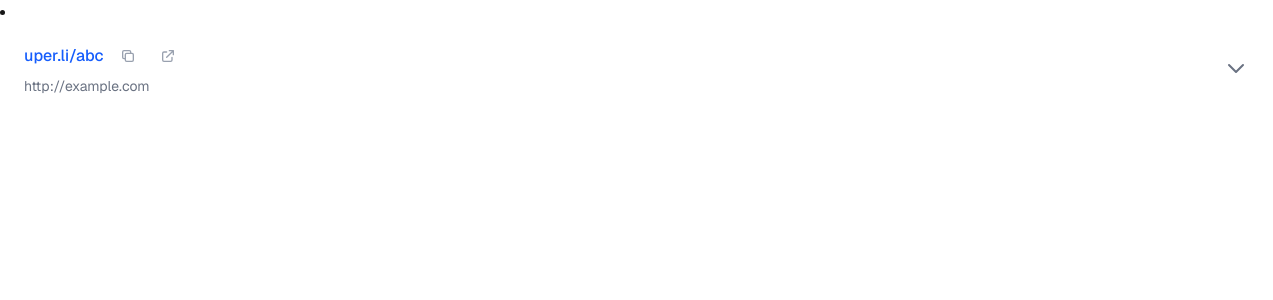
Test case: LinkItem › toggles expansion on click of the expand button
What coordinates should you click on to do the following:
click the button named "Expand details"
I would click on:
 (1236, 68)
Its box is x1=1216 y1=48 x2=1256 y2=88.
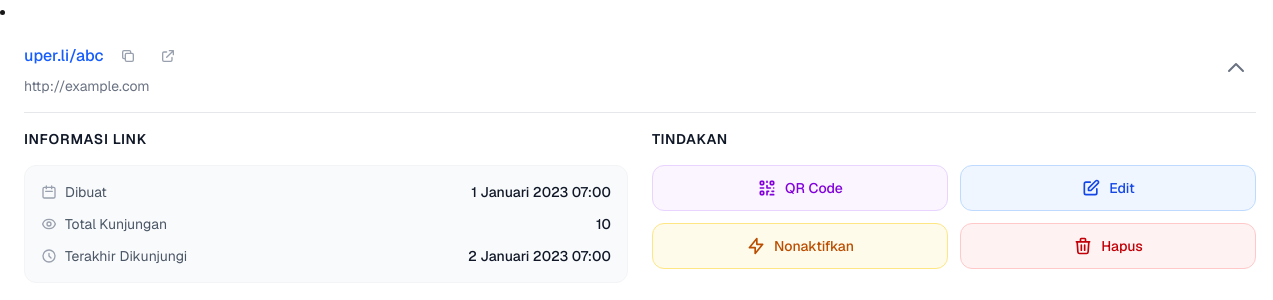
Now the button named "Collapse details" is shown, box x1=1216 y1=48 x2=1256 y2=88
